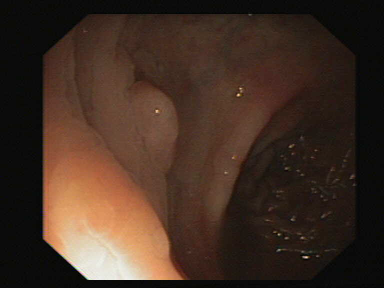polyp: (123, 68, 206, 175)
